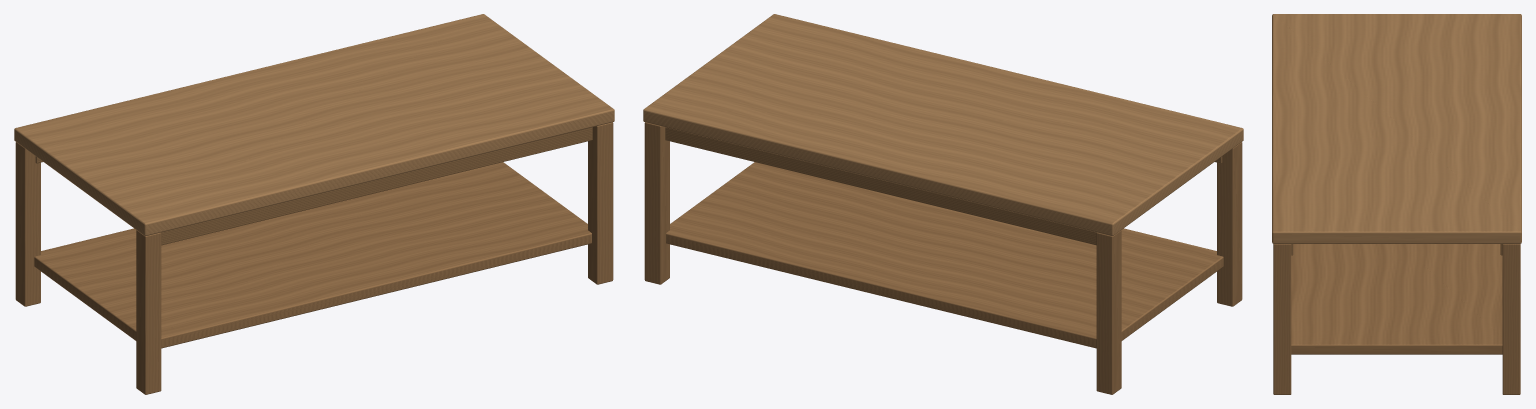
Rendered from mesa_centro.glb.
3 views of the same model, side by side, from view 1: azimuth 30°, elevation 25°; view 2: azimuth 150°, elevation 25°; view 3: azimuth 270°, elevation 25° (orthographic). The views are drawn at different scales.
Parts seen in each view (by area): view 1: mesa_centro; view 2: mesa_centro; view 3: mesa_centro.
Boxes of the visible parts, left/top/right/bottom form: mesa_centro: left=14, top=14, right=614, bottom=394; mesa_centro: left=643, top=14, right=1243, bottom=394; mesa_centro: left=1272, top=14, right=1521, bottom=394.
Size of the model in its own units: 1.2 by 0.42 by 0.58.
3 materials, 3 textured.
